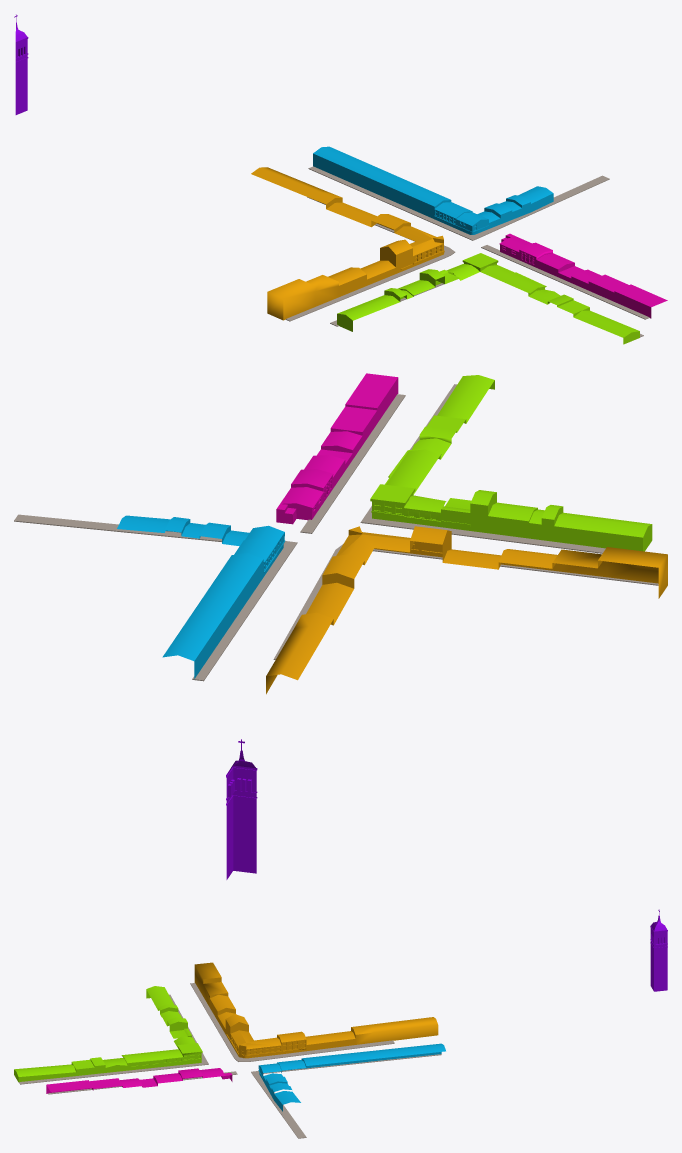
The model's file is NewStreetBuildings.fbx.
3 views of the same model, one above another, from view 1: azimuth 30°, elevation 25°; view 2: azimuth 150°, elevation 25°; view 3: azimuth 270°, elevation 25° (orthographic). The views are drawn at different scales.
Parts seen in each view (by area): view 1: NewStreet; view 2: NewStreet; view 3: NewStreet.
Boxes of the visible parts, x1,y1,x2,y2 form: NewStreet: (14,14,667,344); NewStreet: (14,373,667,879); NewStreet: (14,909,667,1138).
Size of the model in its own units: 54019 by 12564 by 94275.
